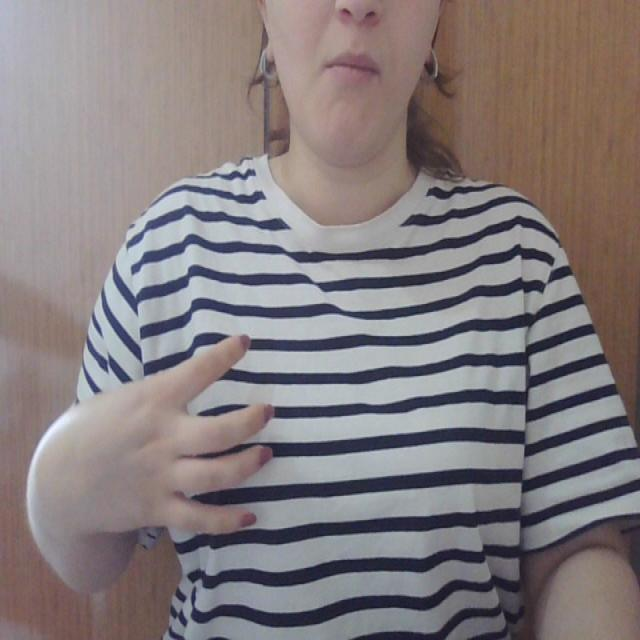Anne: (111, 315, 285, 567)
